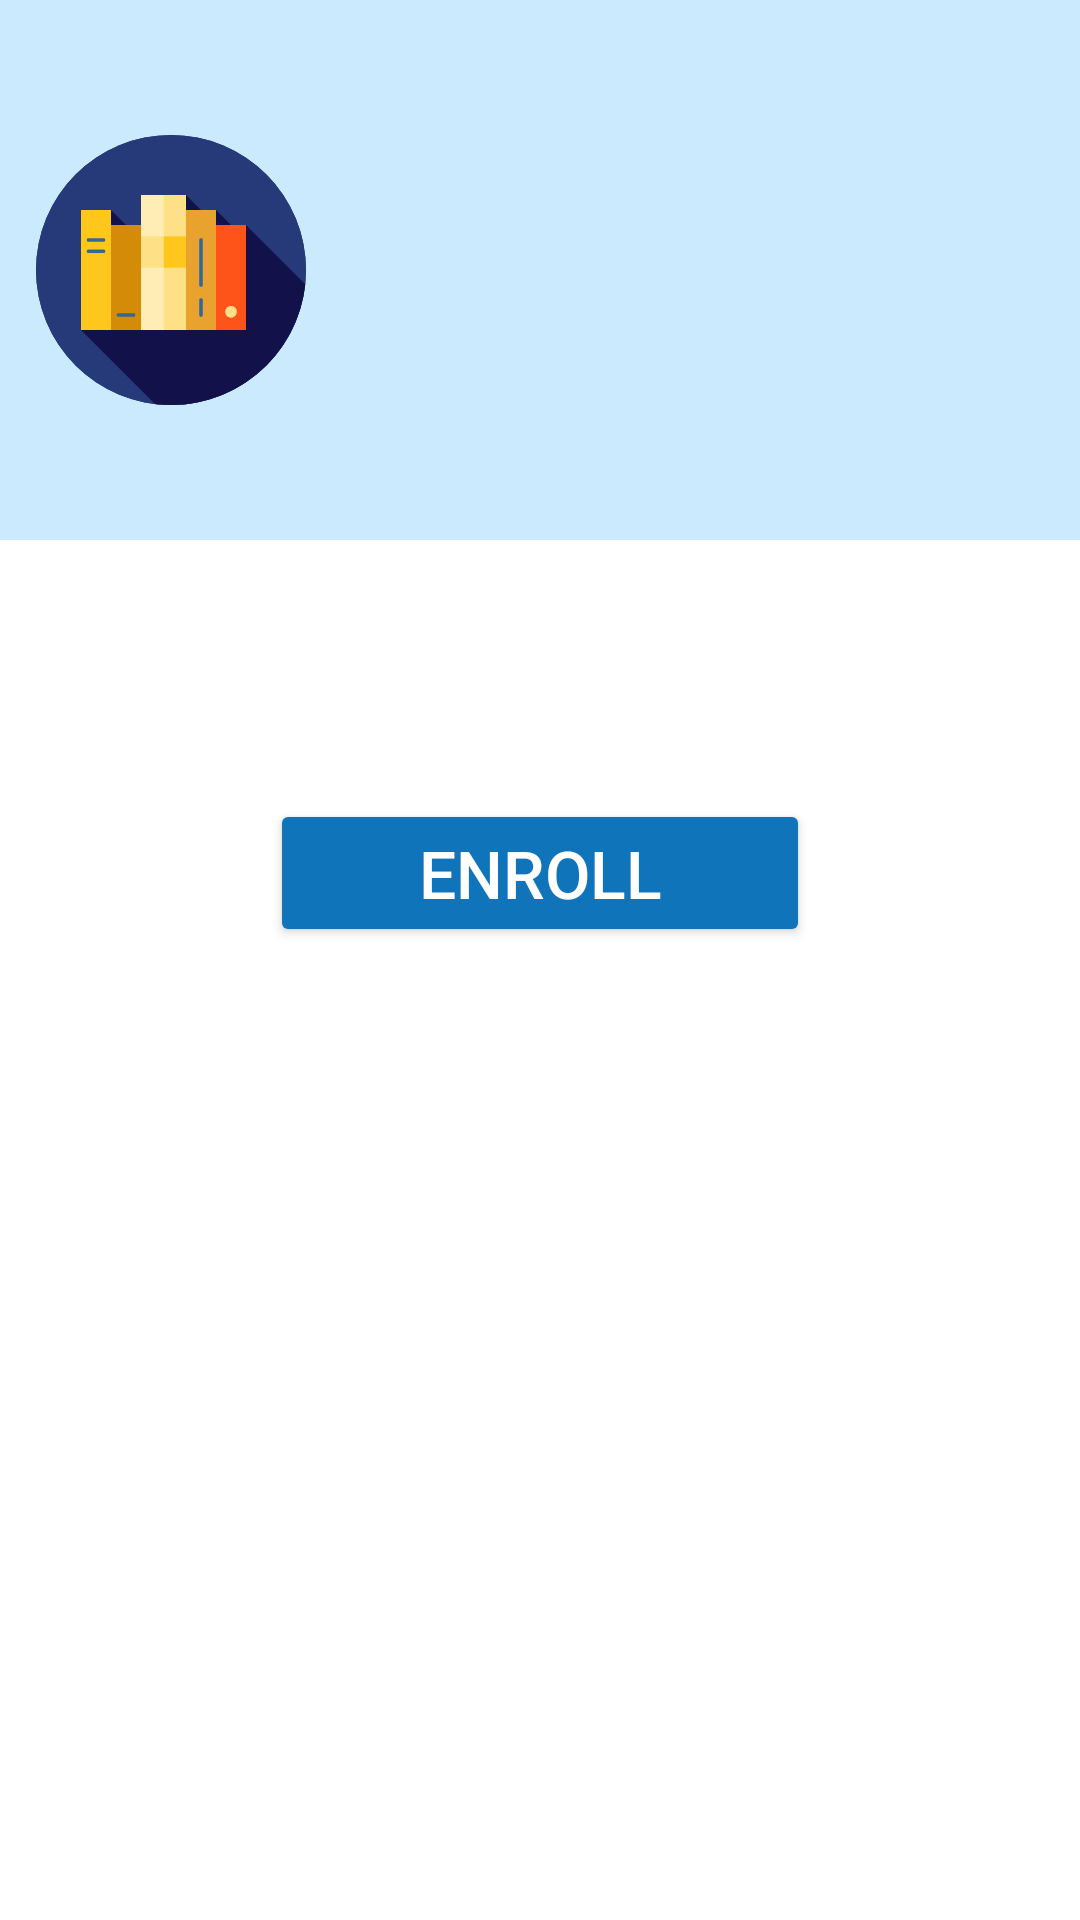

Icon click points for this 1080px x 1920px phone screenshot, format (x=x, y=y):
Course icon: (x=171, y=270)
